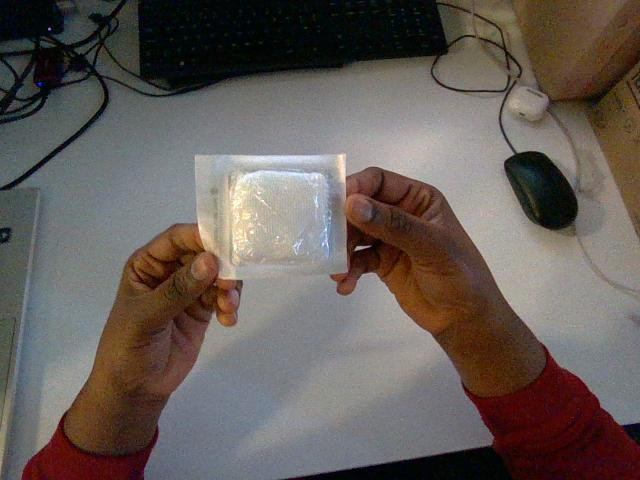gauze: (195, 155, 346, 278)
